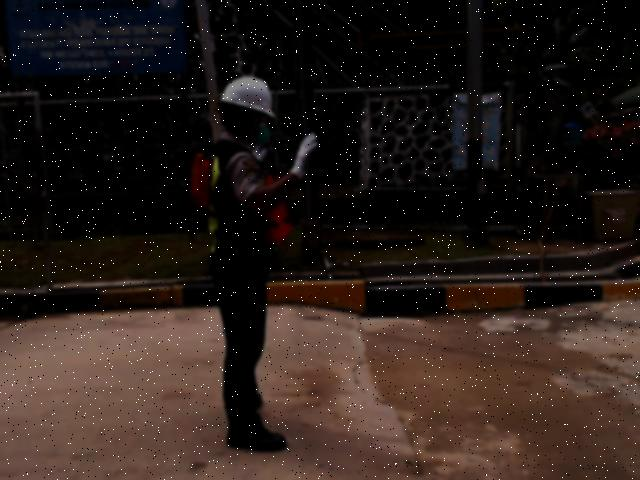glasses: (233, 109, 272, 124)
gloves: (289, 133, 328, 179)
helmet: (215, 77, 278, 119)
mask: (243, 119, 272, 148)
safety-shoes: (222, 415, 293, 453)
vest: (186, 153, 291, 258)
